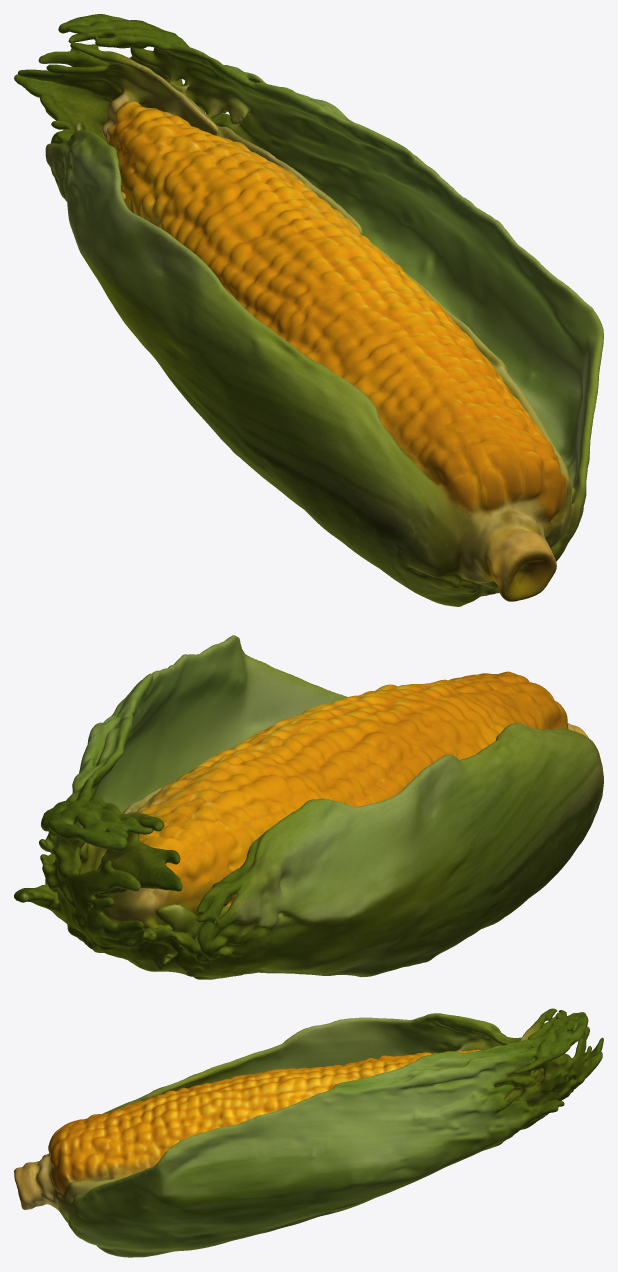
The model's file is elote.glb.
3 renders of one model, top to bottom at view 1: azimuth 30°, elevation 25°; view 2: azimuth 150°, elevation 25°; view 3: azimuth 270°, elevation 25°, orthographic. The views are drawn at different scales.
Parts seen in each view (by area): view 1: world; view 2: world; view 3: world.
Part boxes in pixels (x1=…): world: x1=14, y1=14, x2=603, y2=606; world: x1=14, y1=635, x2=603, y2=979; world: x1=14, y1=1008, x2=603, y2=1257.
Size of the model in its own units: 0.417 by 0.4144 by 1.
1 material, 1 textured.
